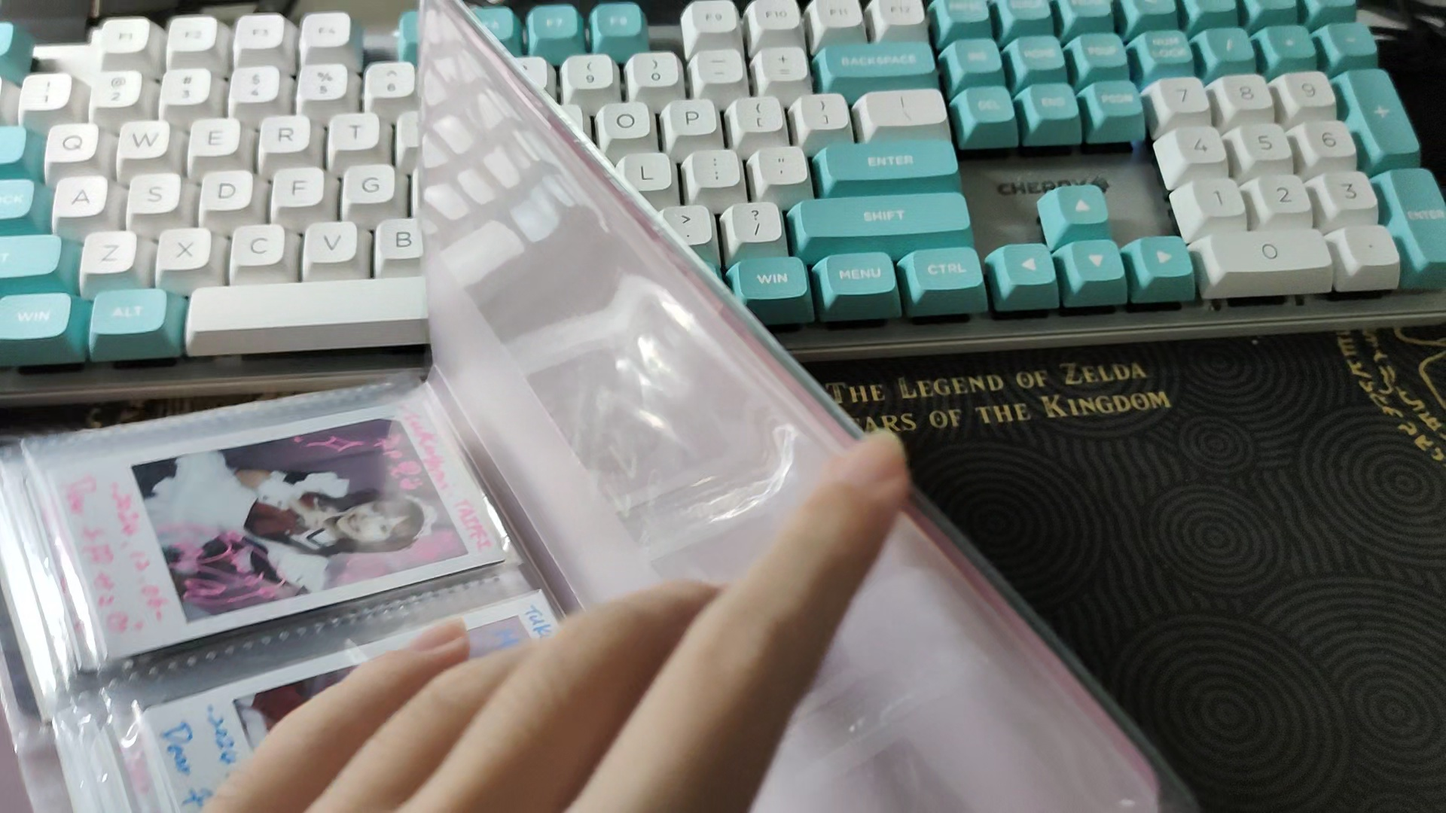Photo_book: (0, 0, 1209, 813)
